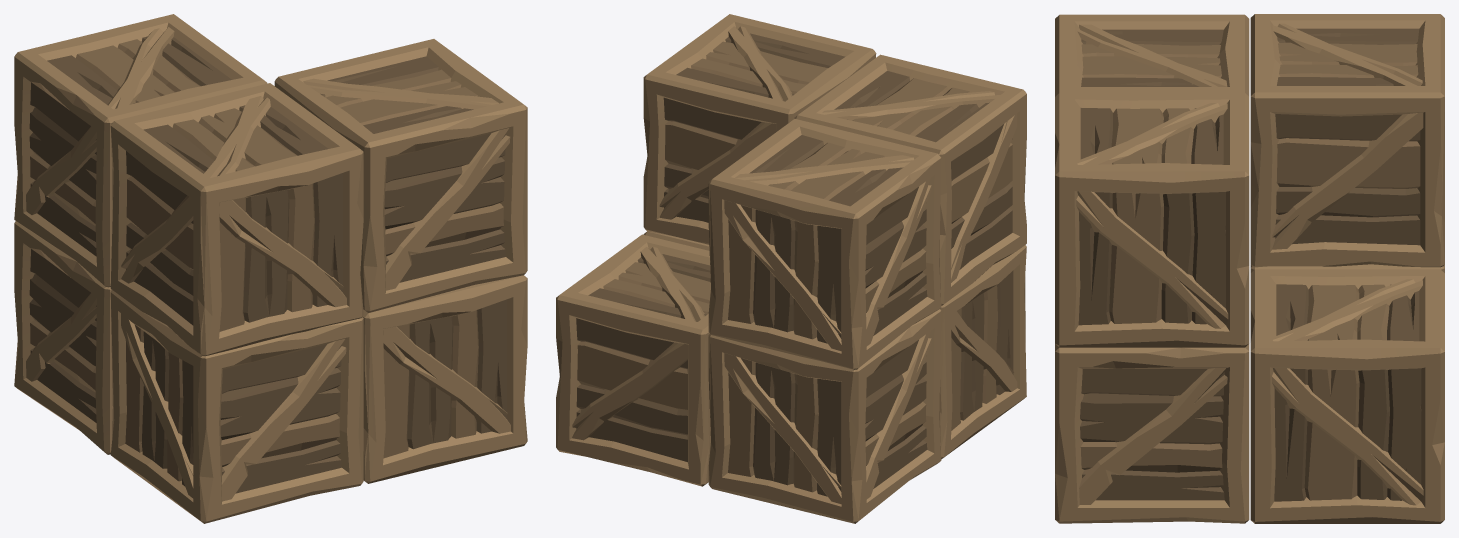
File: SM_Gen_Prop_Crate_Preset_01.obj
3 renders of one model, left to right at view 1: azimuth 30°, elevation 25°; view 2: azimuth 150°, elevation 25°; view 3: azimuth 270°, elevation 25°, orthographic. The views are drawn at different scales.
Visible parts, largest first — view 1: SM_Gen_Prop_Crate_Preset_01_0; view 2: SM_Gen_Prop_Crate_Preset_01_0; view 3: SM_Gen_Prop_Crate_Preset_01_0.
Boxes of the visible parts, x1=… form: SM_Gen_Prop_Crate_Preset_01_0: x1=14, y1=14, x2=527, y2=523; SM_Gen_Prop_Crate_Preset_01_0: x1=556, y1=14, x2=1026, y2=523; SM_Gen_Prop_Crate_Preset_01_0: x1=1055, y1=14, x2=1444, y2=523.
Bounding box in the file's own units: 1.73 × 1.72 × 1.72.
1 material, 1 textured.
